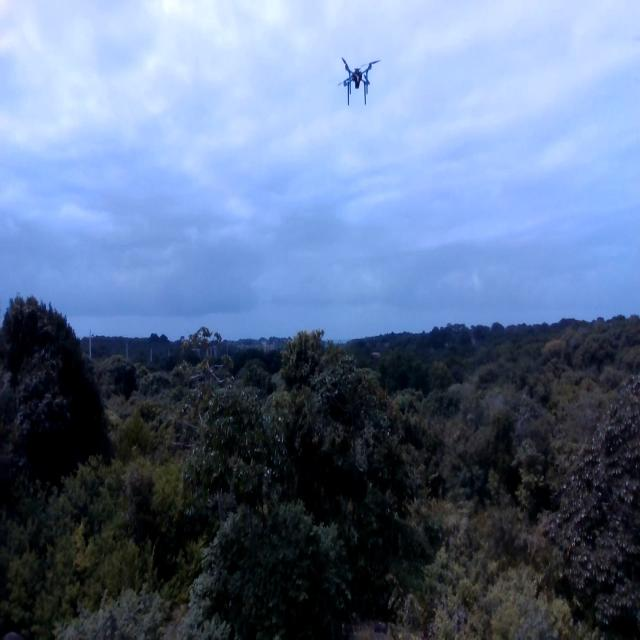-uav-: (328, 45, 387, 116)
